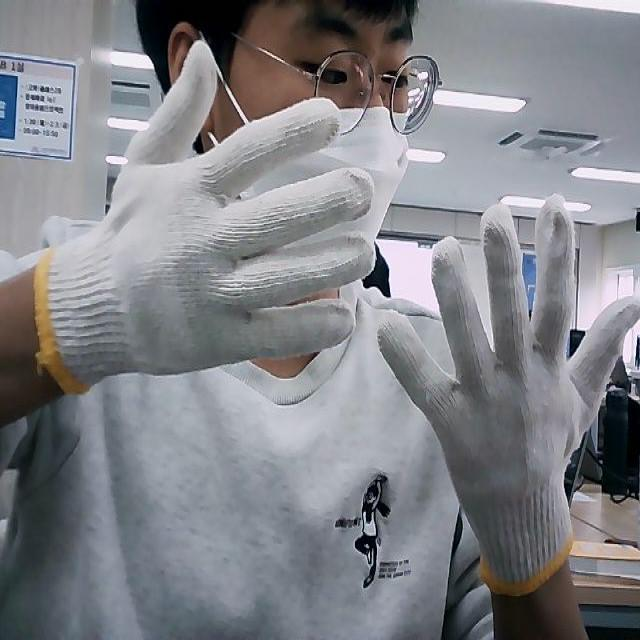gloved_hand: (32, 39, 372, 399), (378, 192, 640, 591)
